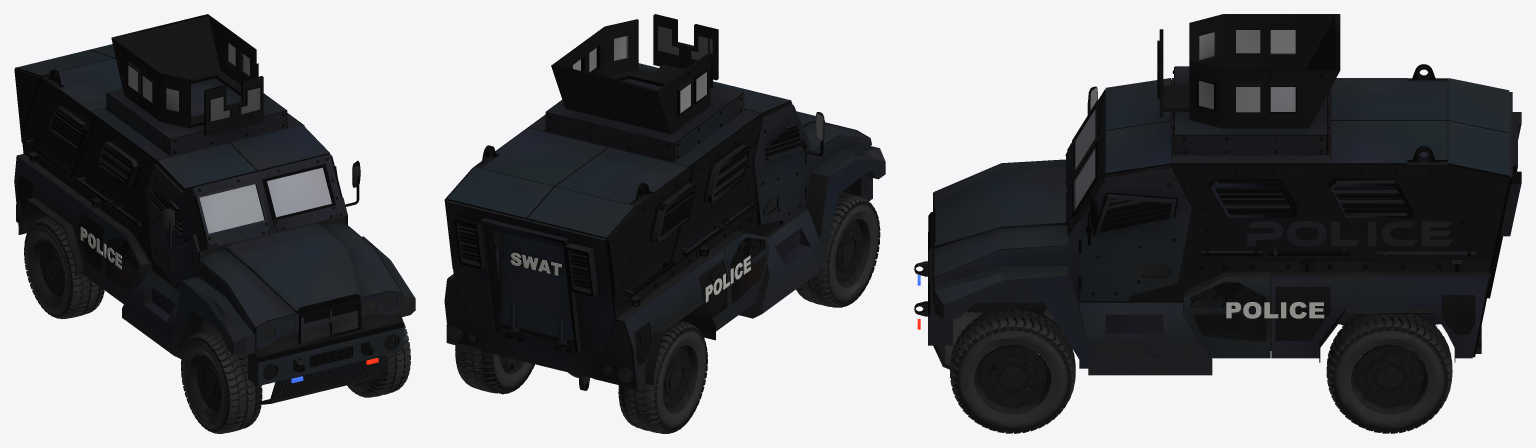
The model's file is maxxpro.glb.
3 views of the same model, side by side, from view 1: azimuth 30°, elevation 25°; view 2: azimuth 150°, elevation 25°; view 3: azimuth 270°, elevation 25° (orthographic). The views are drawn at different scales.
Parts seen in each view (by area): view 1: body, wheel_fr, wheel_rr, wheel_fl, dec_police.001; view 2: body, wheel_rr, tailgate, wheel_fr, wheel_rl, dec_police.001, dec_swat; view 3: body, wheel_fl, wheel_rl, dec_police.
Part boxes in pixels (box(x1,y1,x2,y2)): body: box(14, 14, 415, 404); wheel_fr: box(181, 328, 262, 433); wheel_rr: box(24, 216, 104, 319); wheel_fl: box(347, 317, 410, 397); dec_police.001: box(80, 226, 121, 269); body: box(444, 14, 885, 390); wheel_rr: box(618, 320, 707, 433); tailgate: box(498, 232, 573, 345); wheel_fr: box(796, 191, 880, 307); wheel_rl: box(455, 345, 534, 394); dec_police.001: box(705, 255, 750, 302); dec_swat: box(510, 252, 561, 275); body: box(914, 14, 1521, 375); wheel_fl: box(950, 308, 1075, 433); wheel_rl: box(1326, 314, 1452, 433); dec_police: box(1226, 302, 1324, 318).
Size of the model in its own units: 2.88 by 3.97 by 6.4.
10 materials, 5 textured.
